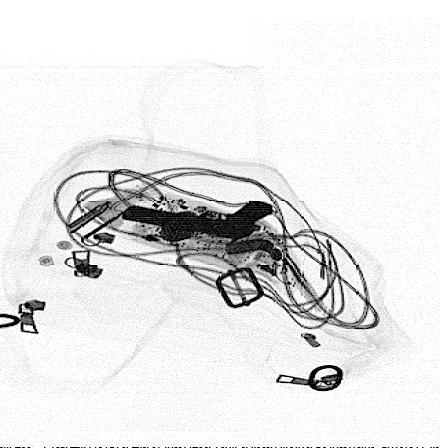Gun: (118, 200, 273, 246)
